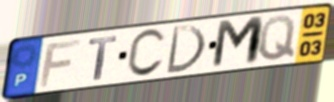C: (124, 27, 168, 80)
D: (164, 24, 208, 76)
F: (37, 38, 84, 90)
M: (209, 14, 267, 72)
Q: (256, 14, 297, 63)
T: (87, 34, 119, 83)
